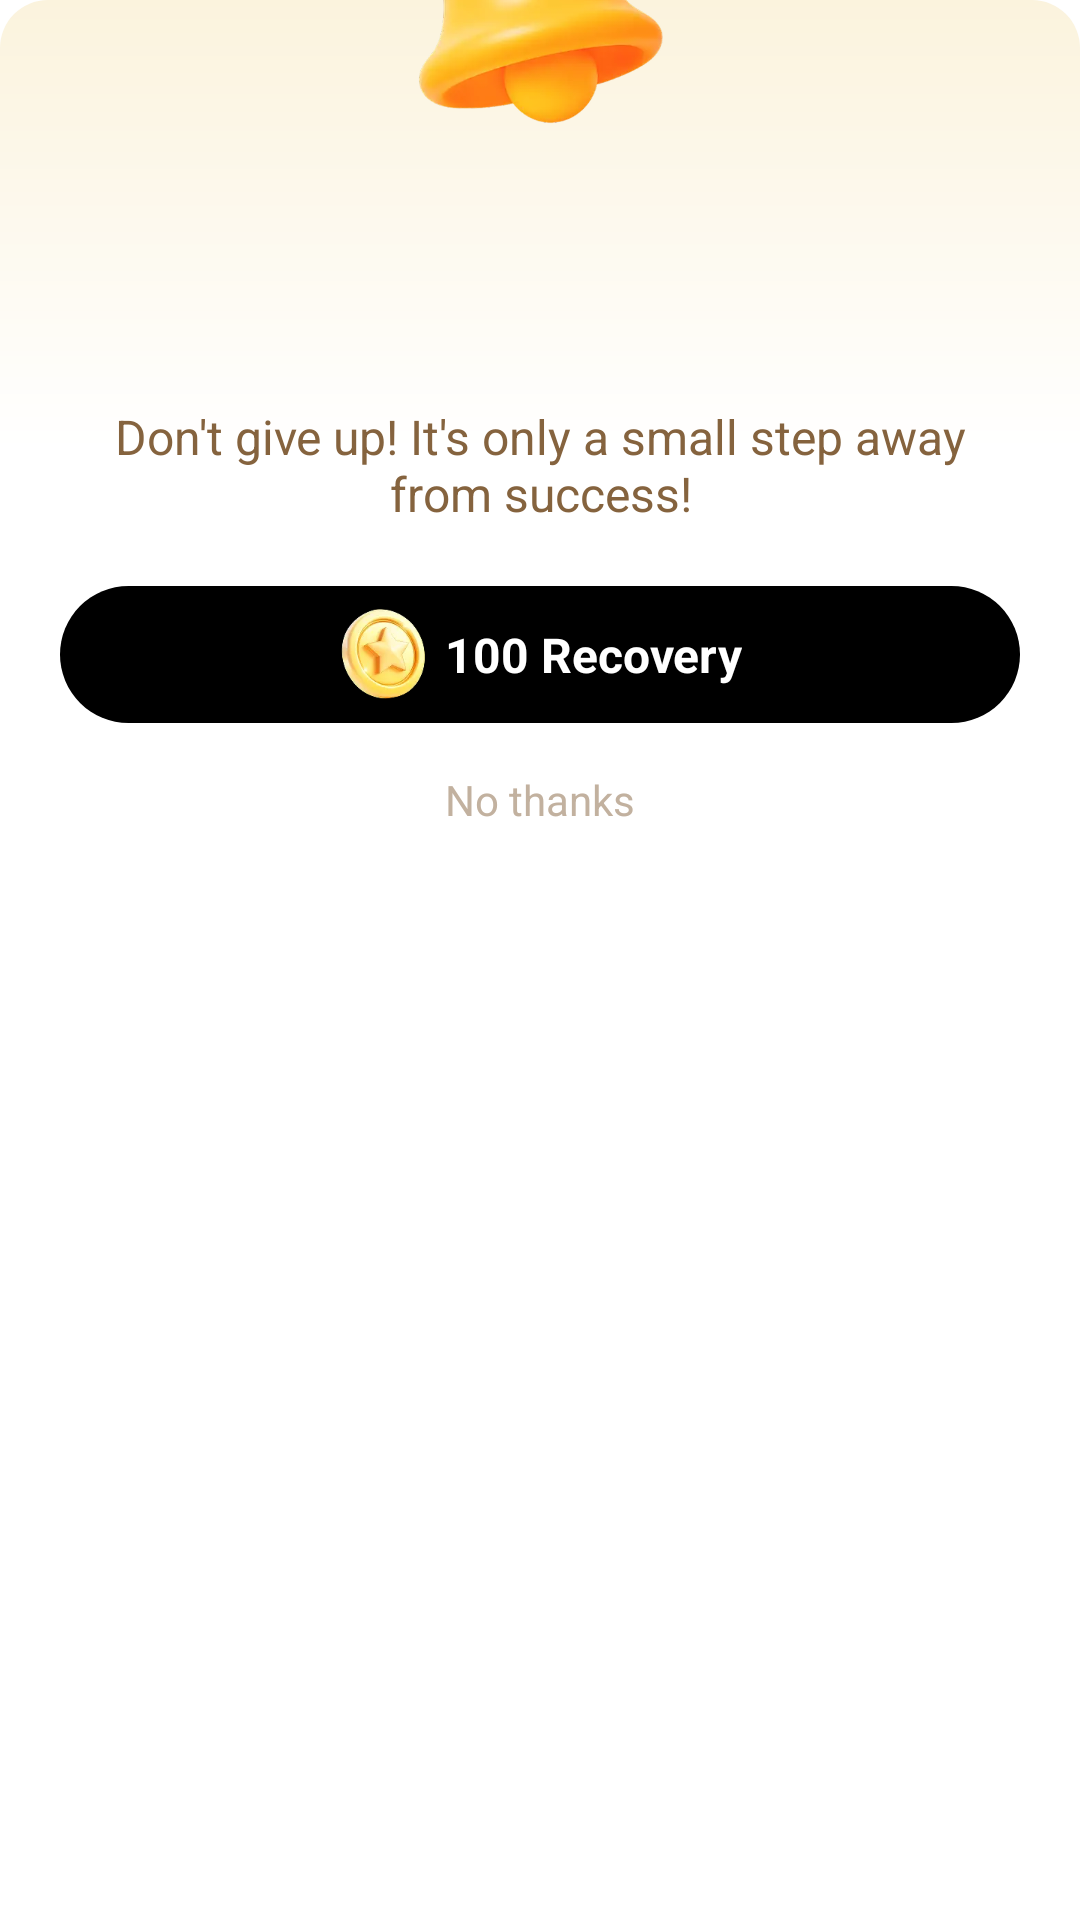

Screen size 1080 x 1920. Icon name, then its center in pixels as point (x, y):
kjv coin: point (383, 654)
